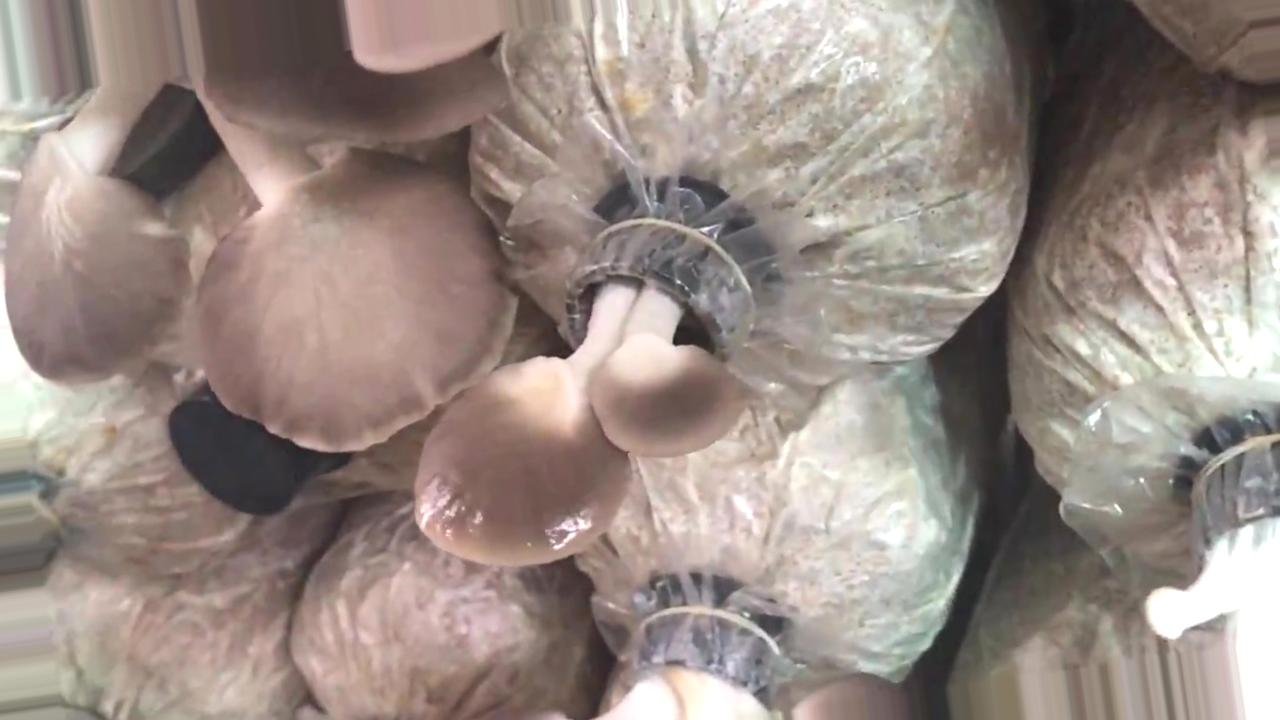nam: (3, 1, 517, 457), (407, 200, 745, 573)
